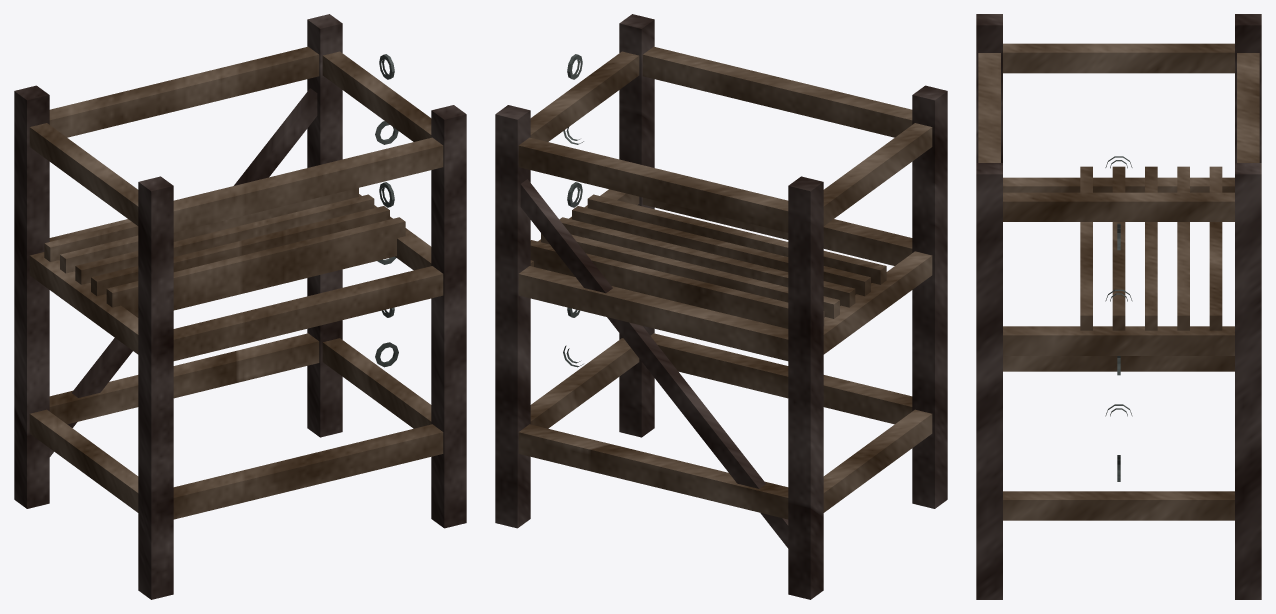
File: 0429_scaffolding_04.glb
The picture shows the model from 3 angles, left to right: view 1: azimuth 30°, elevation 25°; view 2: azimuth 150°, elevation 25°; view 3: azimuth 270°, elevation 25°; orthographic projection. The views are drawn at different scales.
Parts seen in each view (by area): view 1: wood, wood_dark, iron; view 2: wood, wood_dark, iron; view 3: wood, wood_dark, iron.
Part boxes in pixels (left/top/right/bottom): wood: left=29, top=46, right=443, bottom=519; wood_dark: left=14, top=14, right=466, bottom=599; iron: left=375, top=54, right=398, bottom=367; wood: left=518, top=46, right=932, bottom=519; wood_dark: left=495, top=14, right=947, bottom=599; iron: left=563, top=54, right=583, bottom=367; wood: left=978, top=43, right=1259, bottom=520; wood_dark: left=976, top=14, right=1261, bottom=599; iron: left=1105, top=156, right=1132, bottom=481.
Bounding box in the file's own units: 1.83 × 2.33 × 1.38.
Materials: 3 (3 with a texture image).
